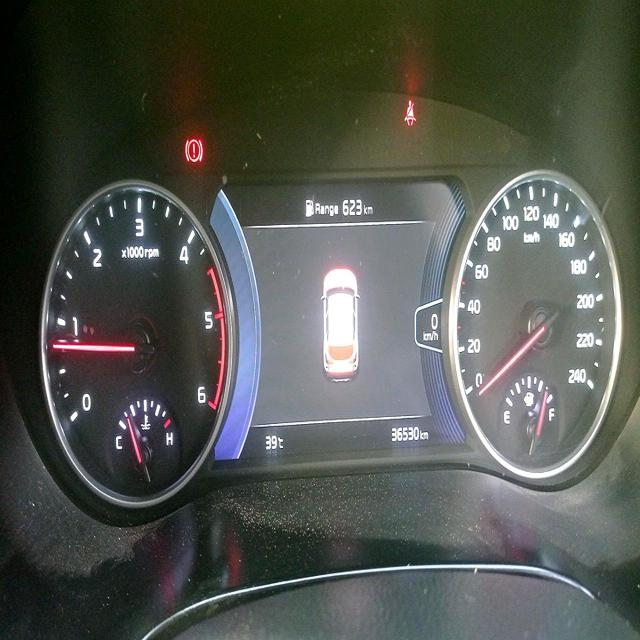odometer: (390, 420, 419, 446)
